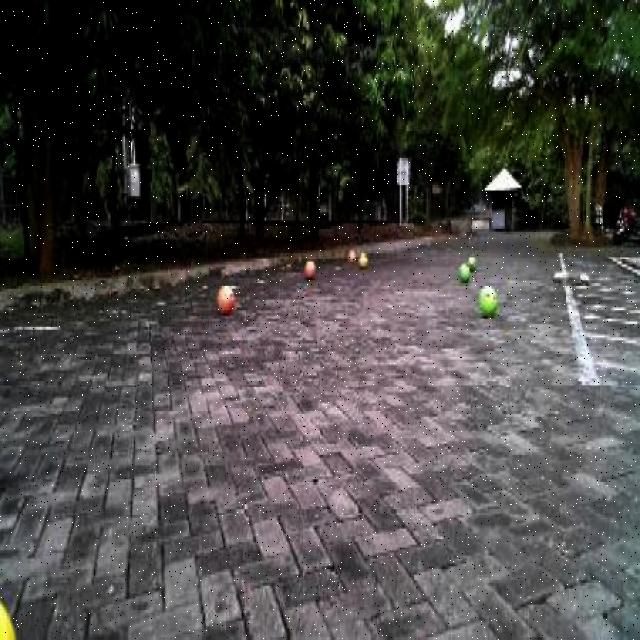buoy: (213, 279, 236, 317), (477, 280, 496, 316)
